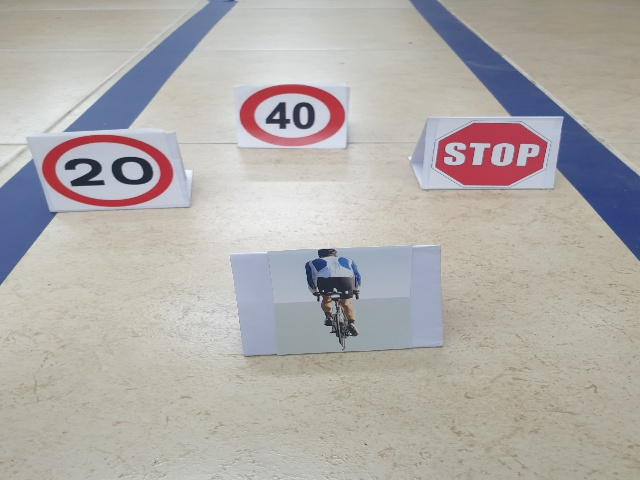Cyclist: (294, 250, 379, 352)
Limit 20: (42, 134, 176, 208)
Limit 40: (240, 86, 345, 147)
Stop: (430, 121, 551, 188)
